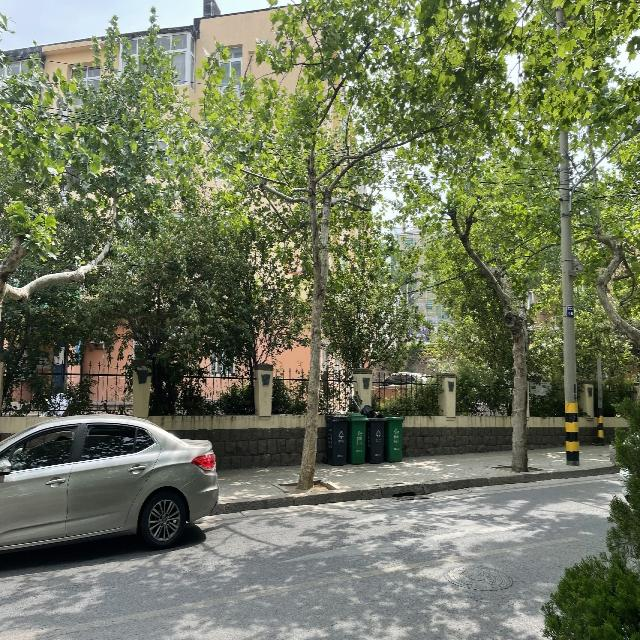garbage_bin: (324, 413, 348, 464), (347, 412, 368, 464), (385, 414, 404, 461)
overflow: (360, 404, 386, 463)
